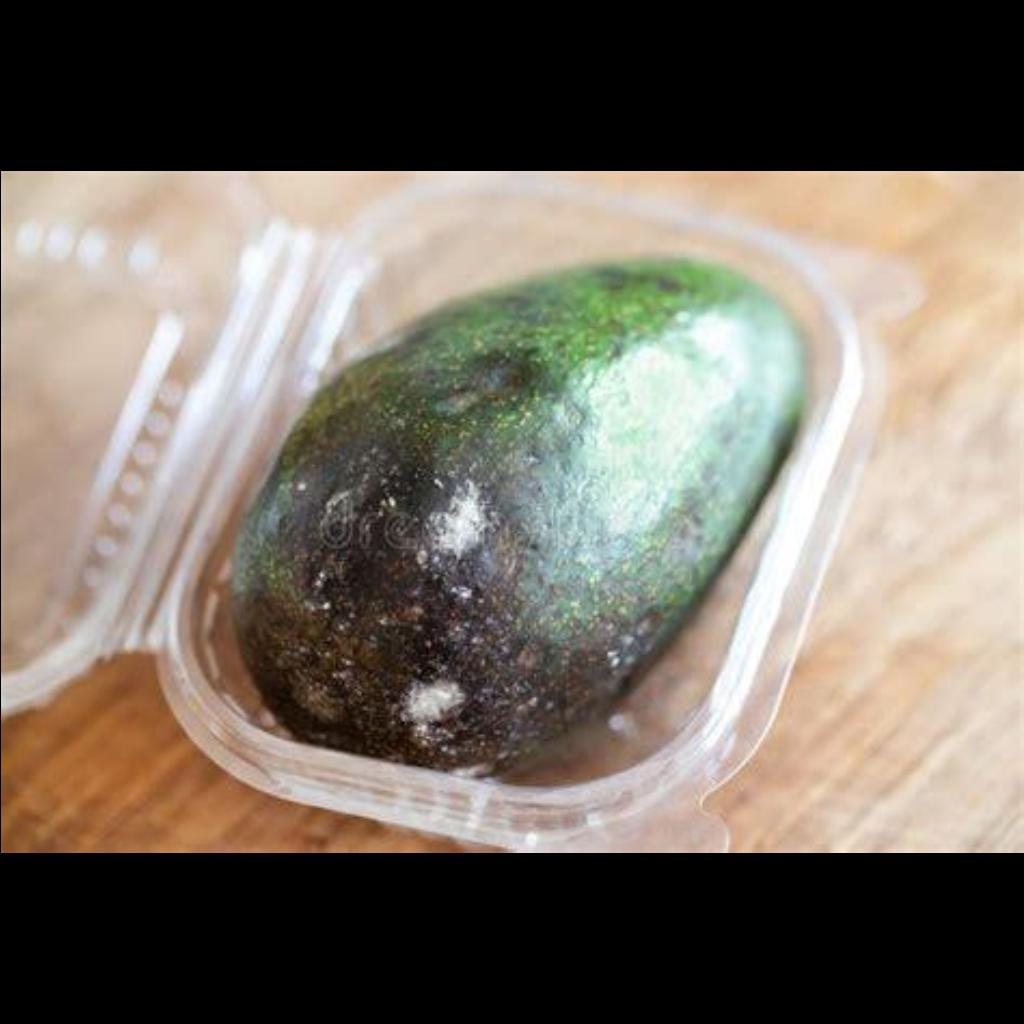antracnosis_fruto: (223, 348, 641, 743)
